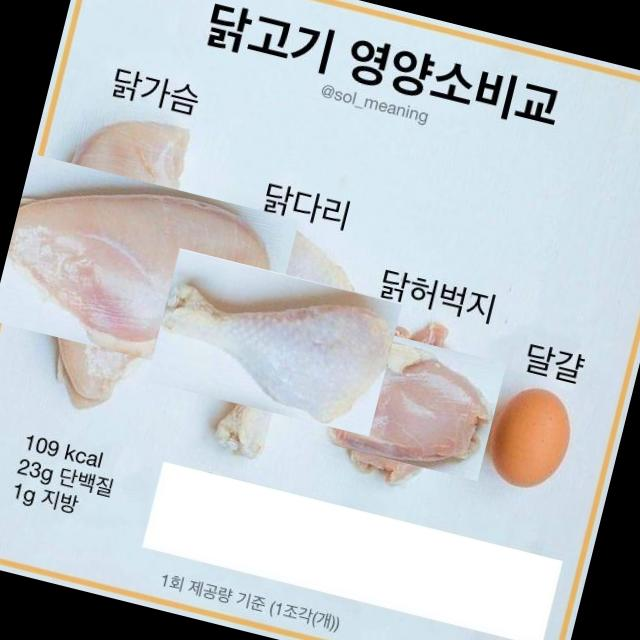chicken: (0, 118, 272, 412), (163, 231, 385, 453), (318, 311, 497, 490)
